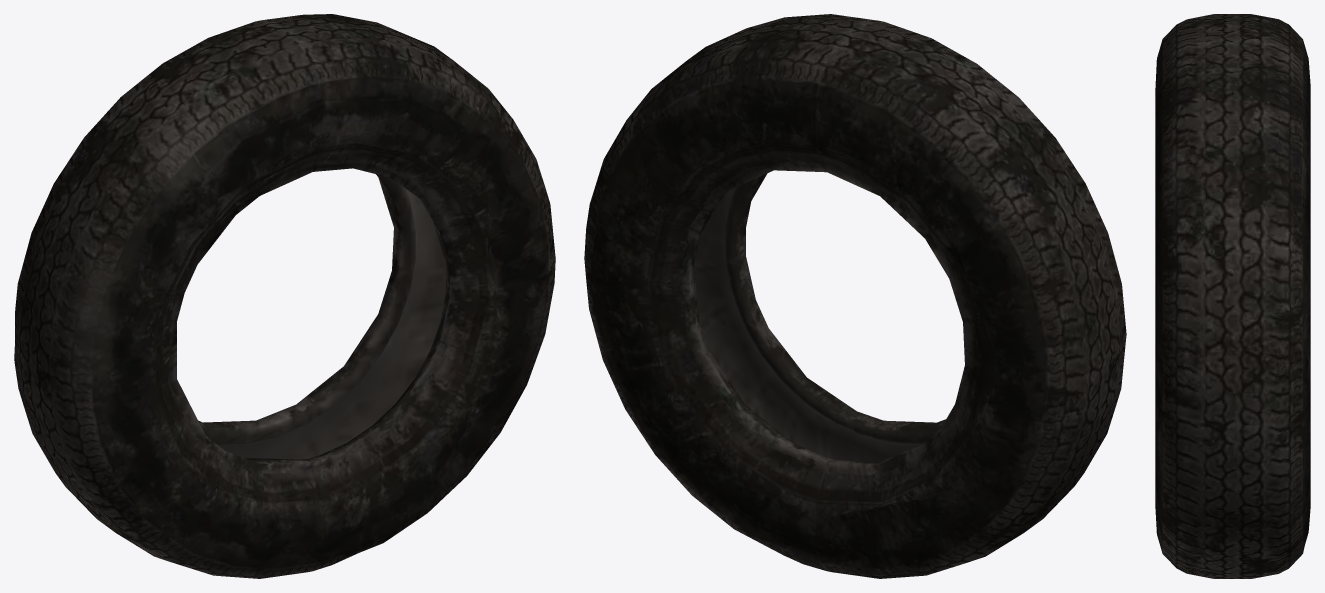
File: scene-tyre.glb
The picture shows the model from 3 angles, left to right: view 1: azimuth 30°, elevation 25°; view 2: azimuth 150°, elevation 25°; view 3: azimuth 270°, elevation 25°; orthographic projection. The views are drawn at different scales.
Parts seen in each view (by area): view 1: old_tyre; view 2: old_tyre; view 3: old_tyre.
Boxes of the visible parts, x1,y1,x2,y2 form: old_tyre: (14,14,555,578); old_tyre: (584,14,1126,578); old_tyre: (1155,14,1310,578).
Size of the model in its own units: 0.6 by 0.6 by 0.165.
1 material, 1 textured.
